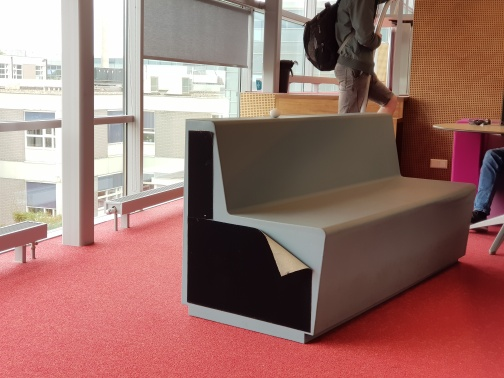egg: (269, 108, 282, 119)
